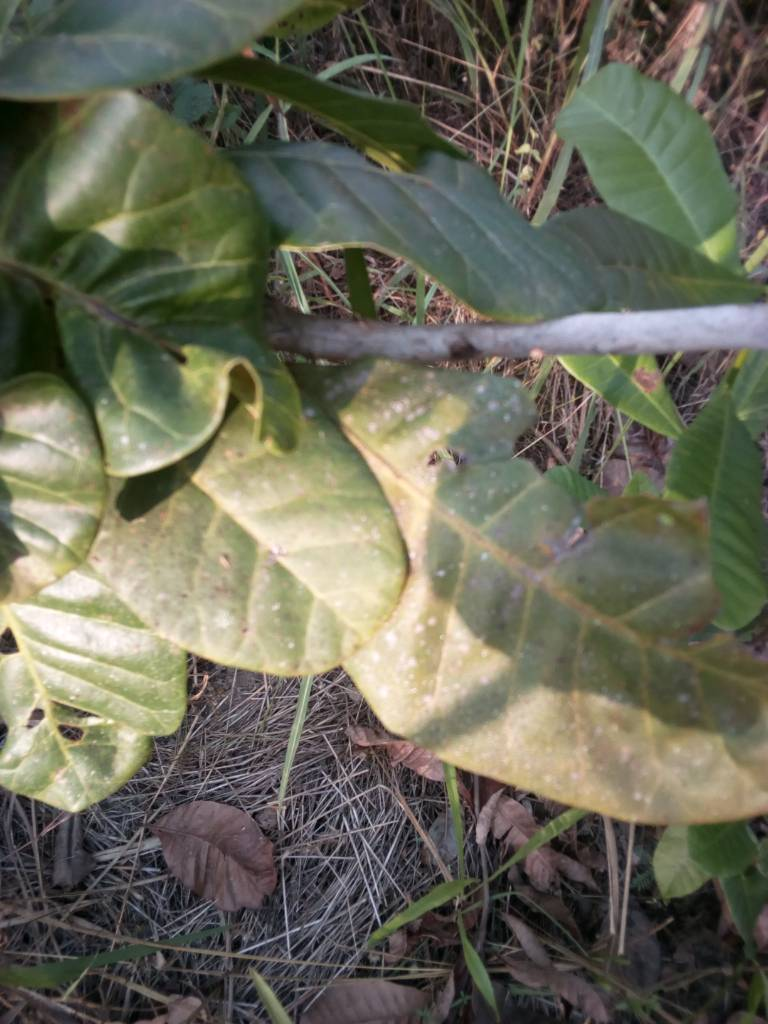Oïdium: (304, 374, 768, 838), (10, 352, 433, 699)
